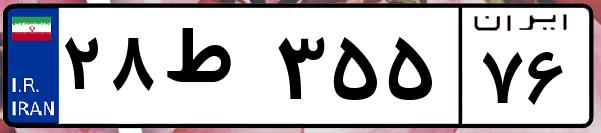2: (57, 26, 110, 100)
3: (270, 28, 330, 110)
5: (385, 28, 445, 110), (330, 28, 385, 110)
6: (525, 38, 570, 115)
7: (475, 38, 525, 113)
8: (110, 28, 158, 98)
ط: (158, 20, 270, 120)
